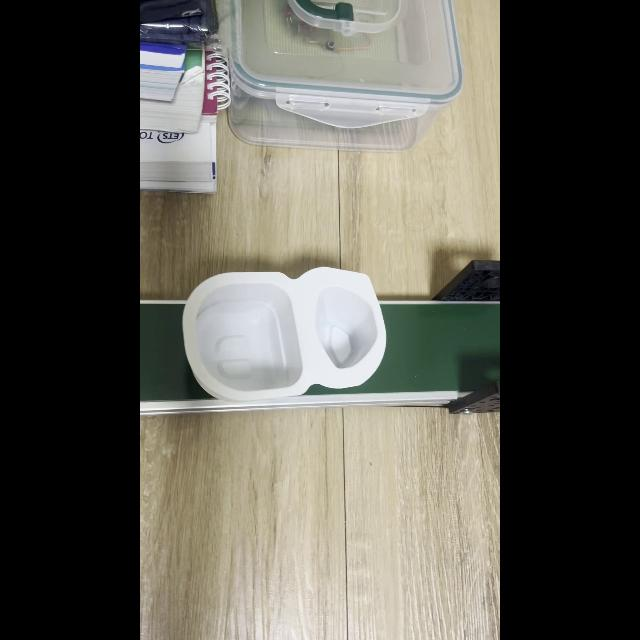clean: (190, 280, 380, 390)
